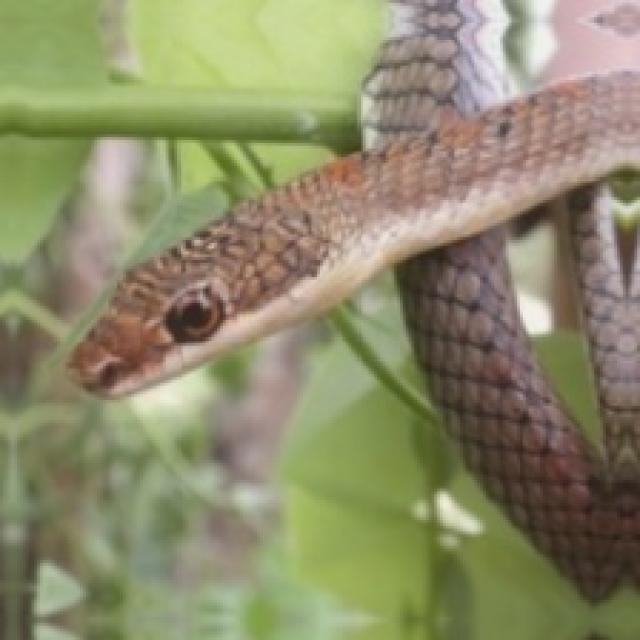paradise tree snake: (69, 0, 637, 597)
